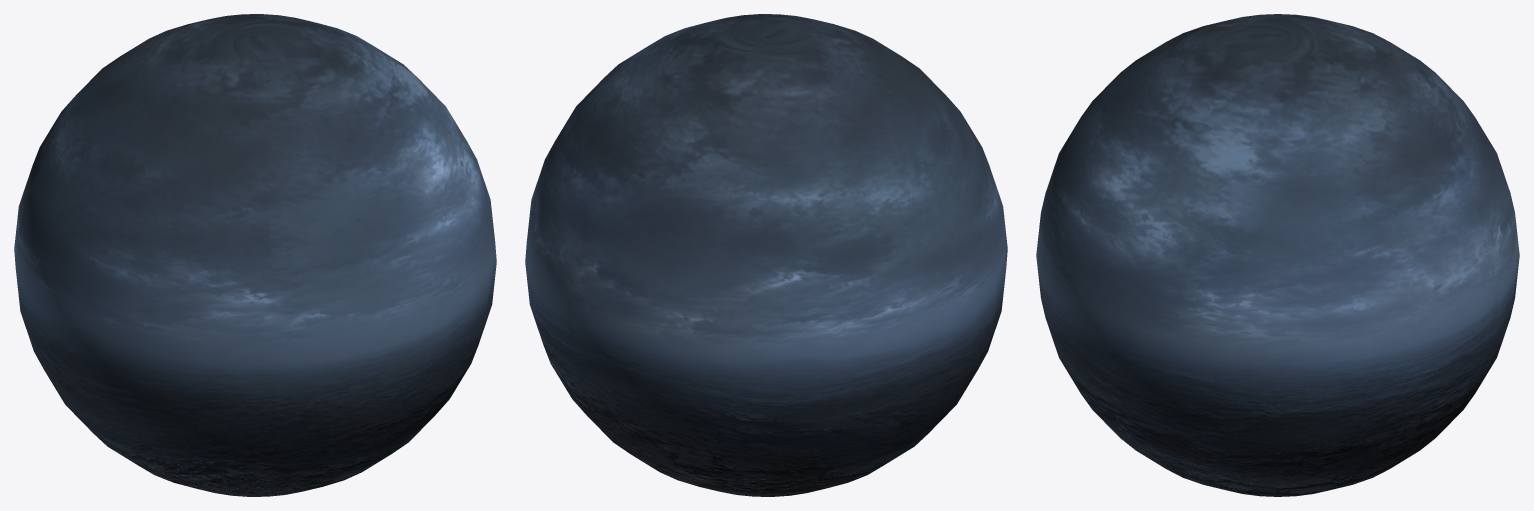
The model's file is HouseInside.fbx.
3 renders of one model, left to right at view 1: azimuth 30°, elevation 25°; view 2: azimuth 150°, elevation 25°; view 3: azimuth 270°, elevation 25°, orthographic.
Visible parts, largest first — view 1: Sphere; view 2: Sphere; view 3: Sphere.
Part boxes in pixels (x1,y1,x2,y2): Sphere: (14, 14, 496, 496); Sphere: (525, 14, 1007, 496); Sphere: (1036, 14, 1519, 496).
Size of the model in its own units: 10234 by 10234 by 10234.
